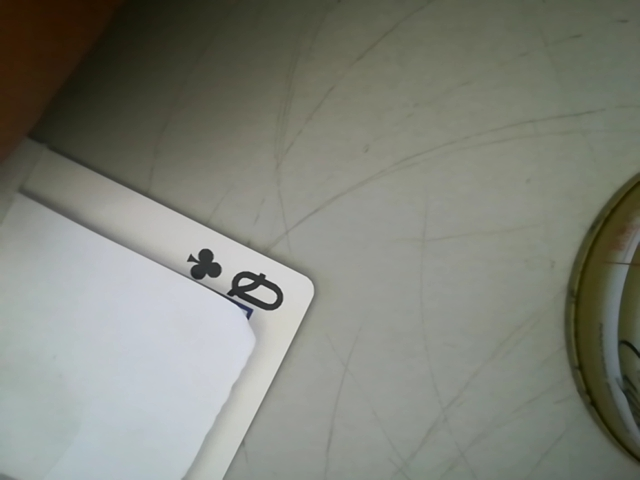mh q: (169, 239, 301, 315)
